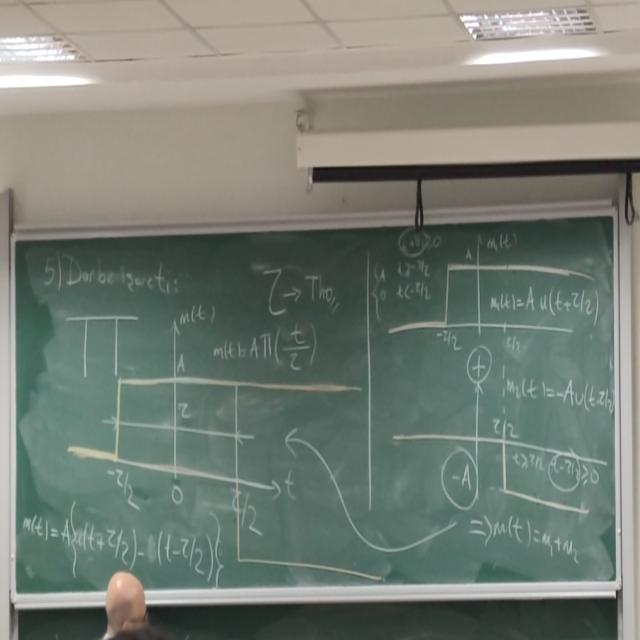image: (65, 314, 362, 494), (384, 354, 611, 521), (392, 247, 606, 362)
math: (489, 502, 591, 572), (490, 276, 601, 326), (260, 256, 348, 318), (511, 444, 601, 502), (371, 249, 436, 321), (500, 374, 612, 409)
text: (60, 252, 182, 306)
